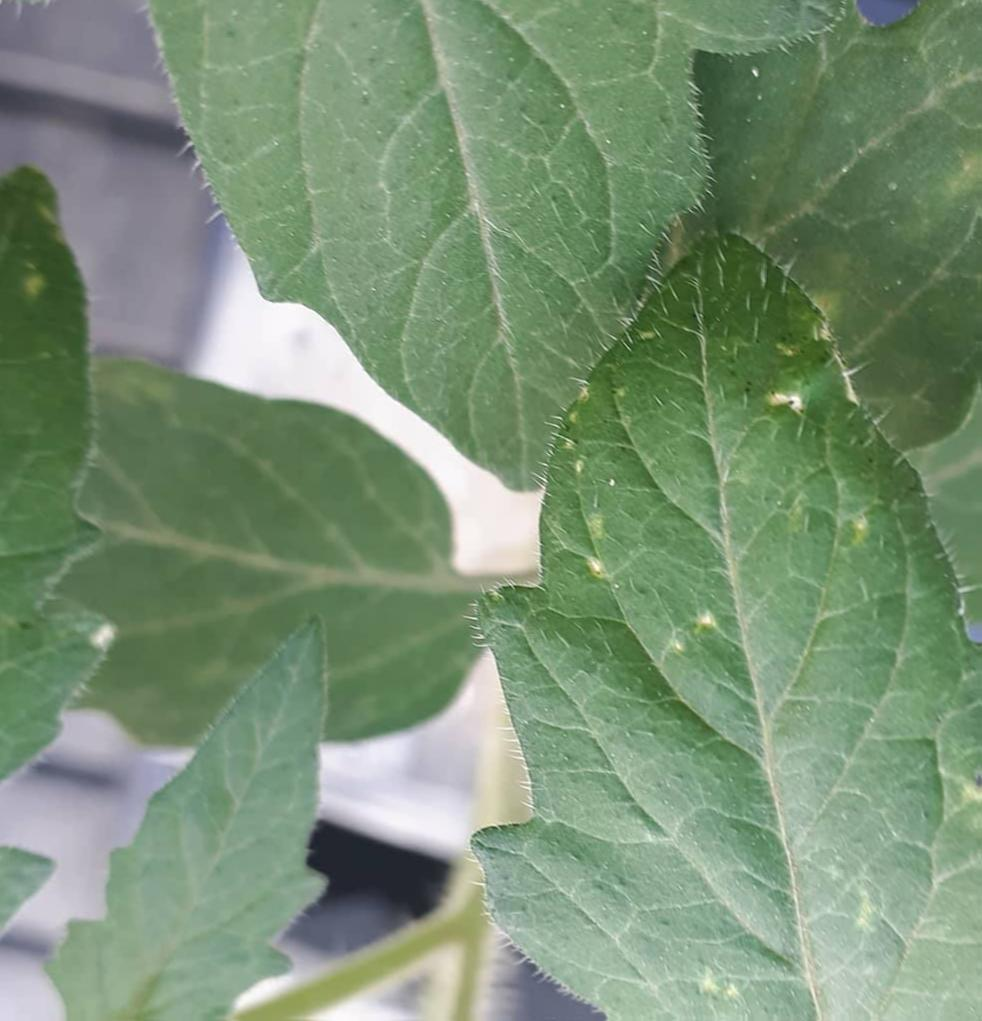Tomato mold leaf: (0, 0, 842, 530), (452, 214, 982, 1021)
